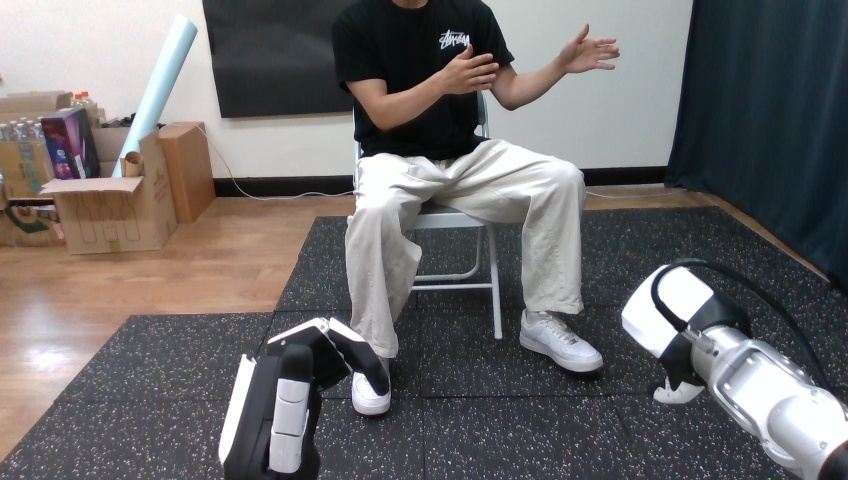left robot hand: (623, 259, 847, 478), (219, 318, 389, 479), (671, 265, 820, 386), (556, 24, 619, 74), (439, 45, 499, 94)
